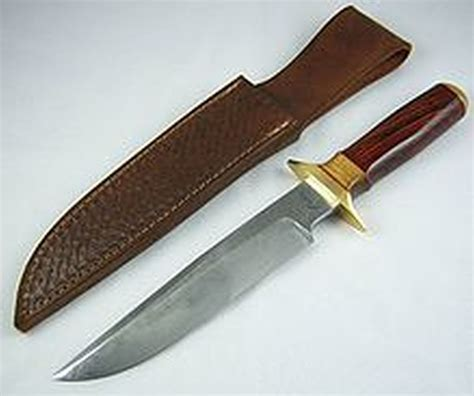knife: (51, 78, 470, 382)
